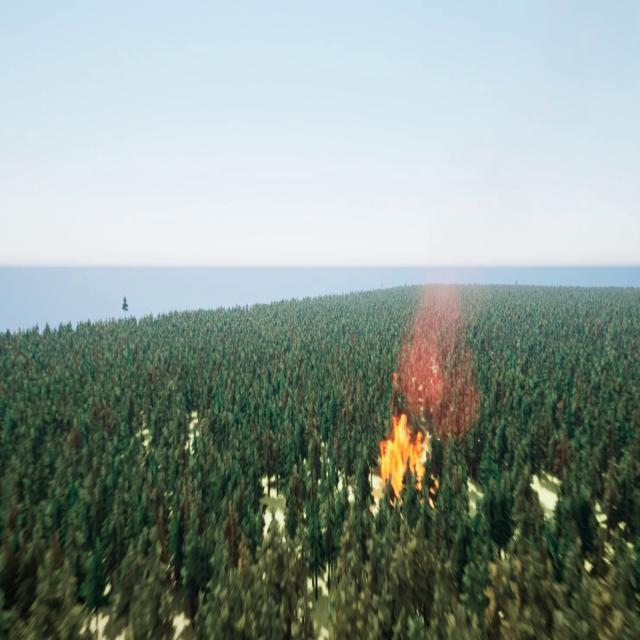fire: (379, 410, 431, 511)
smoke: (397, 281, 487, 434)
